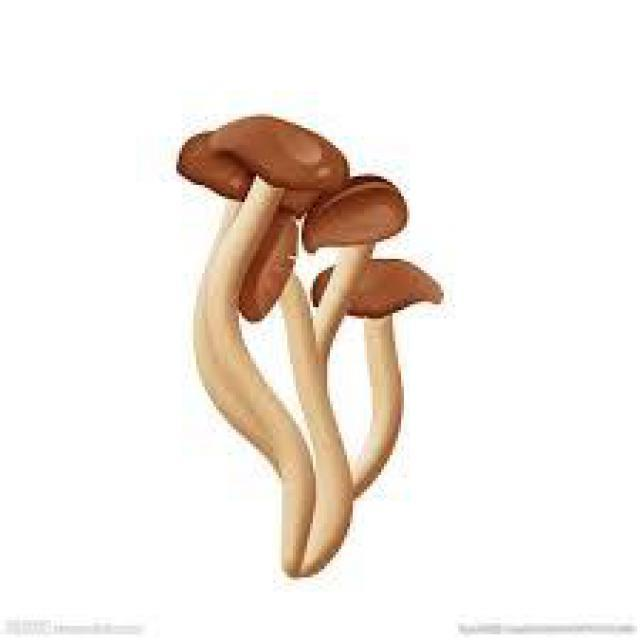Agrocybe aegerita: (180, 114, 440, 580)
